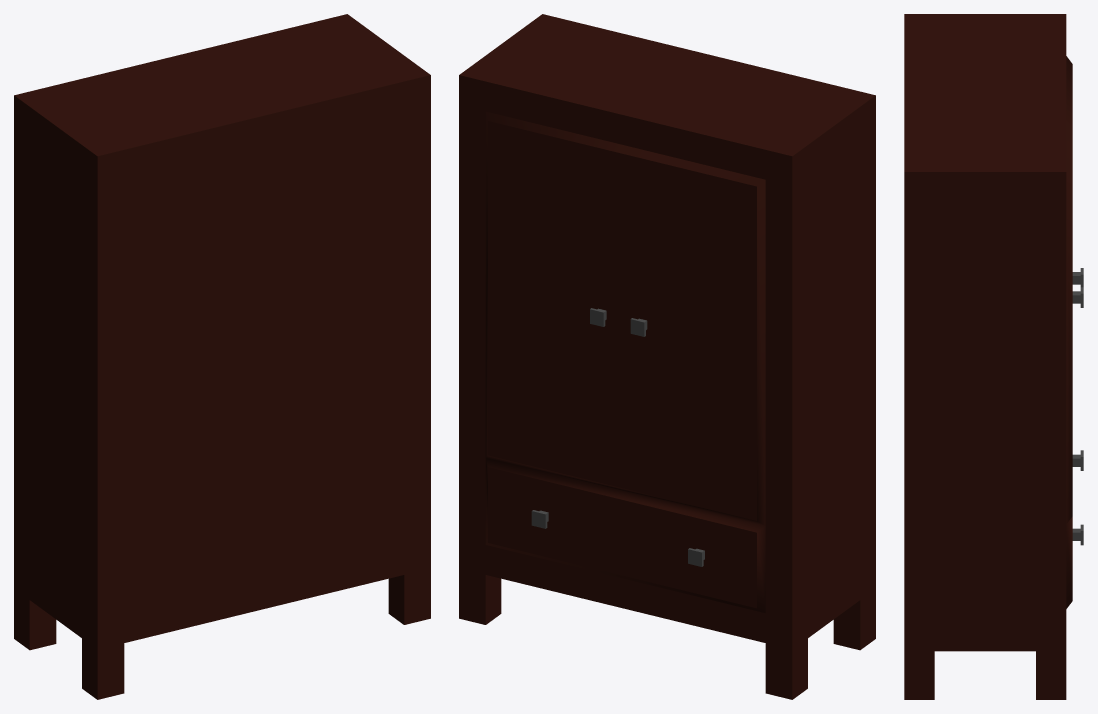
File: Small Wardrobe.FBX
3 views of the same model, side by side, from view 1: azimuth 30°, elevation 25°; view 2: azimuth 150°, elevation 25°; view 3: azimuth 270°, elevation 25° (orthographic). The views are drawn at different scales.
Parts seen in each view (by area): view 1: Box004; view 2: Box004; view 3: Box004.
Part boxes in pixels (<box>): Box004: <box>14,14,430,699</box>; Box004: <box>459,14,875,699</box>; Box004: <box>904,14,1072,699</box>.
Bounding box in the file's own units: 47.24 × 73.62 × 22.66.
